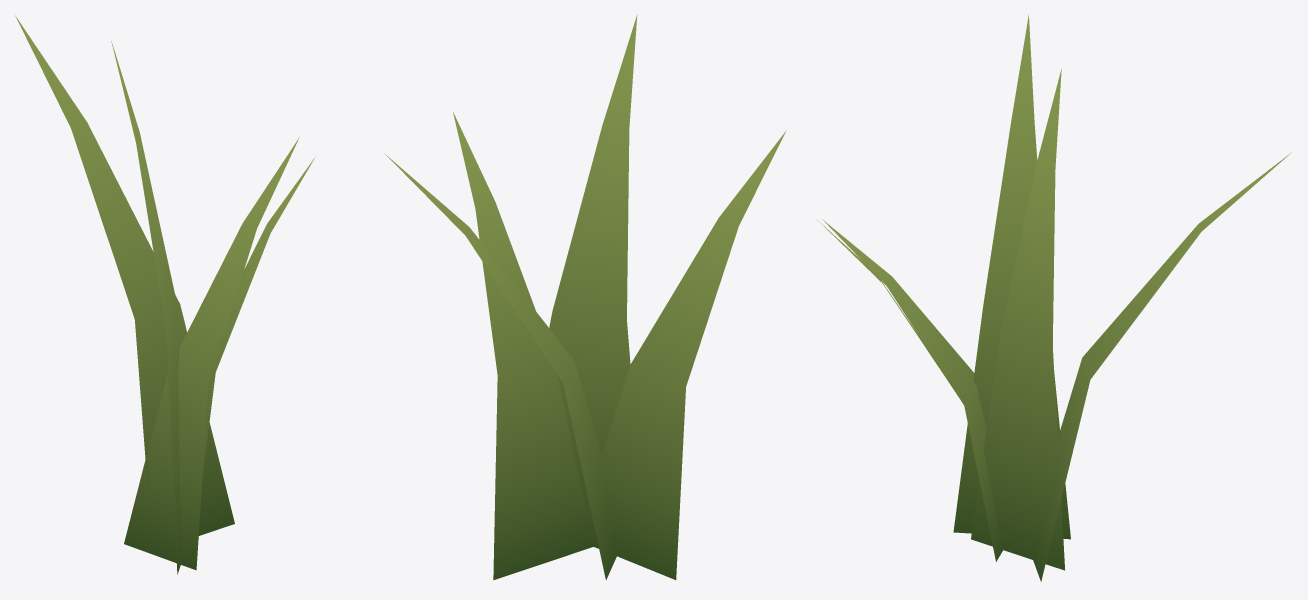
Rendered from 1942-Street-furniture-grass-tuft.glb.
The picture shows the model from 3 angles, left to right: view 1: azimuth 30°, elevation 25°; view 2: azimuth 150°, elevation 25°; view 3: azimuth 270°, elevation 25°; orthographic projection. The views are drawn at different scales.
Parts seen in each view (by area): view 1: Street furniture/grass tuft; view 2: Street furniture/grass tuft; view 3: Street furniture/grass tuft.
Boxes of the visible parts, x1,y1,x2,y2 form: Street furniture/grass tuft: [15, 15, 314, 574]; Street furniture/grass tuft: [384, 15, 786, 580]; Street furniture/grass tuft: [817, 14, 1291, 581].
Size of the model in its own units: 0.5574 by 0.9027 by 0.831.
